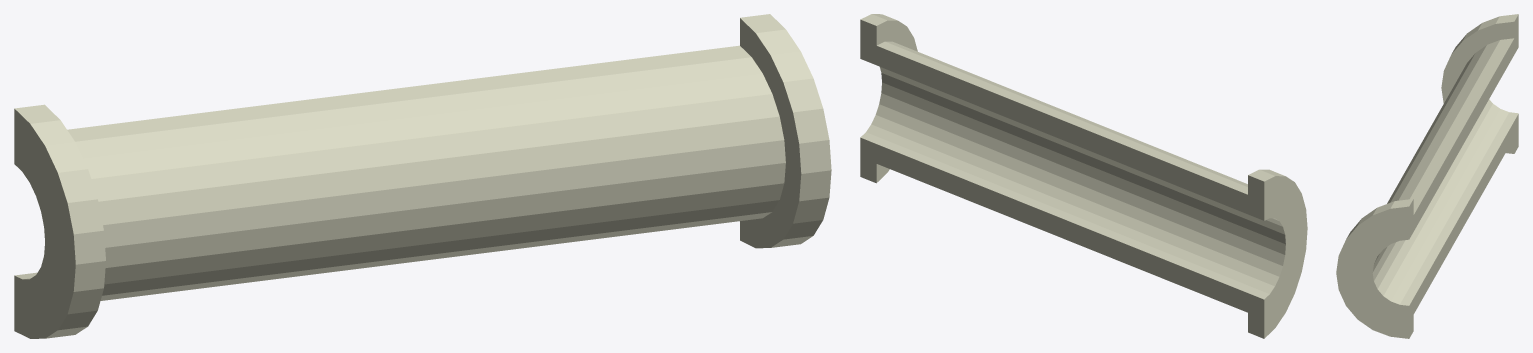
The model's file is section_104.obj.
The picture shows the model from 3 angles, left to right: view 1: azimuth 30°, elevation 25°; view 2: azimuth 150°, elevation 25°; view 3: azimuth 270°, elevation 25°; orthographic projection. The views are drawn at different scales.
Bounding box in the file's own units: 24.95 × 8 × 10.
